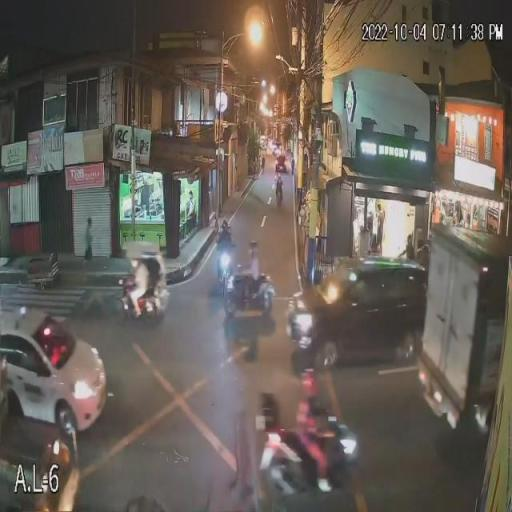helmet: (298, 359, 334, 402), (241, 238, 264, 258), (216, 215, 234, 235)
motorcycle: (233, 392, 385, 512), (216, 271, 287, 318), (208, 244, 236, 293)
rider: (287, 396, 339, 502), (212, 230, 242, 263), (241, 258, 265, 293)
